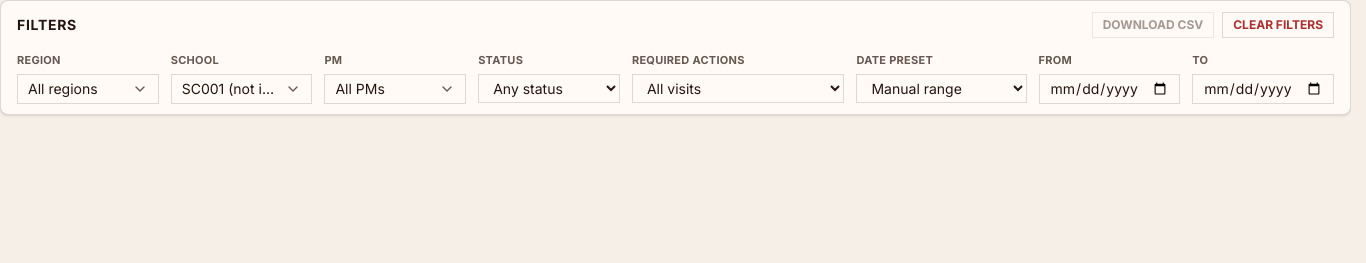
it: VisitSummaryFilterBar › writes the Region selection as a comma list, drops page and keeps the other filters
Click the button "All regions" at coordinates (88, 89), box [17, 74, 159, 104]
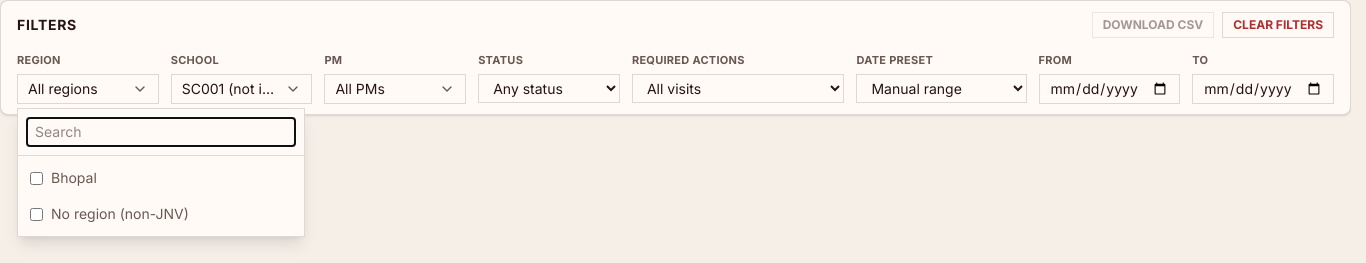
Click the checkbox labelled "Bhopal" at coordinates (36, 178), box [30, 172, 43, 184]
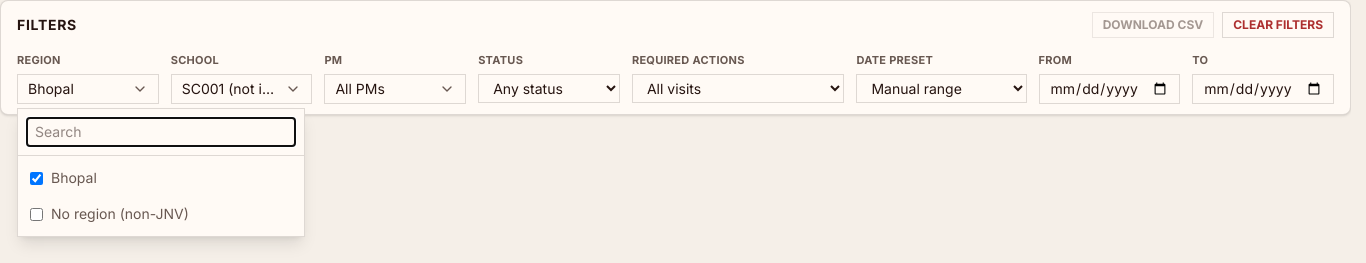
Click the checkbox labelled "No region (non-JNV)" at coordinates (36, 214), box [30, 208, 43, 220]
Wait 300 ms
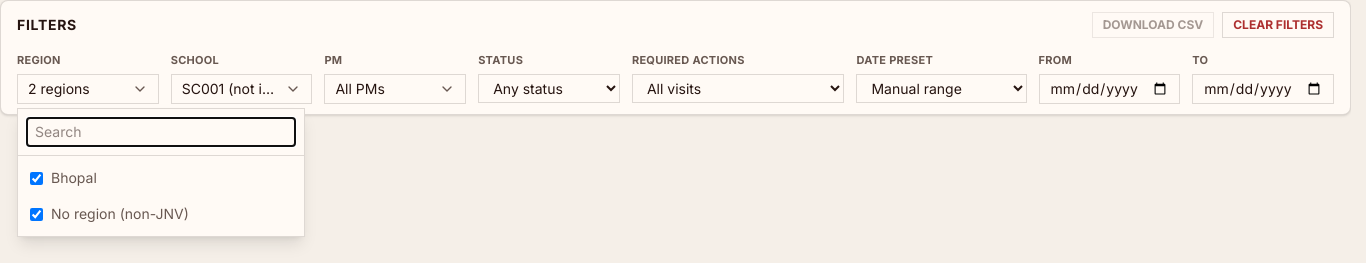
Expected: the button "2 regions" is shown, [17, 74, 159, 104]
